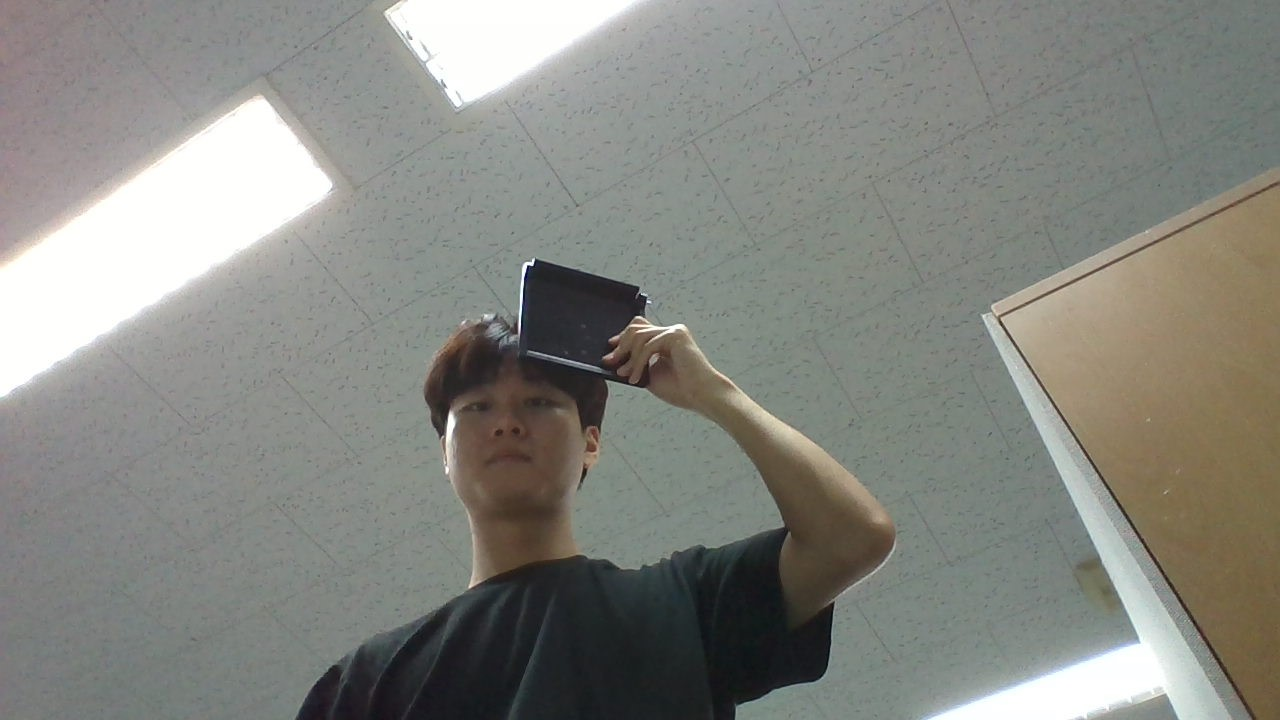Non-Helmet: (382, 295, 649, 546)
